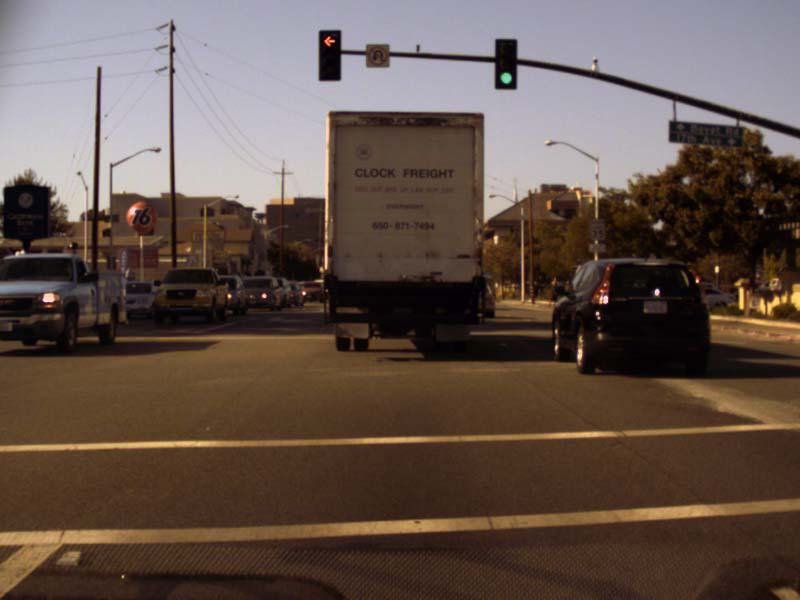Green: (494, 39, 514, 88)
Red: (319, 30, 340, 79)
